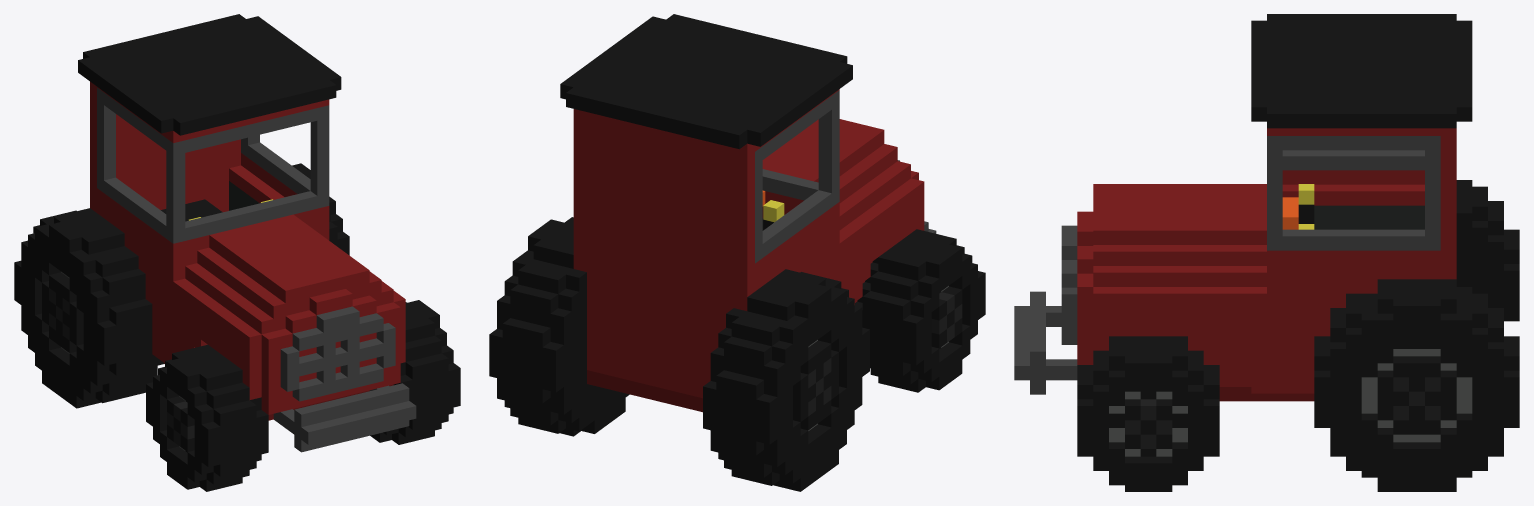
File: farm-60-tractor.obj
The picture shows the model from 3 angles, left to right: view 1: azimuth 30°, elevation 25°; view 2: azimuth 150°, elevation 25°; view 3: azimuth 270°, elevation 25°; orthographic projection. The views are drawn at different scales.
Parts seen in each view (by area): view 1: tractor; view 2: tractor; view 3: tractor.
Boxes of the visible parts, x1,y1,x2,y2 form: tractor: [14, 14, 460, 491]; tractor: [489, 14, 985, 491]; tractor: [1014, 14, 1519, 491].
Bounding box in the file's own units: 2.1 × 2.5 × 3.2.
Materials: 1 (1 with a texture image).
